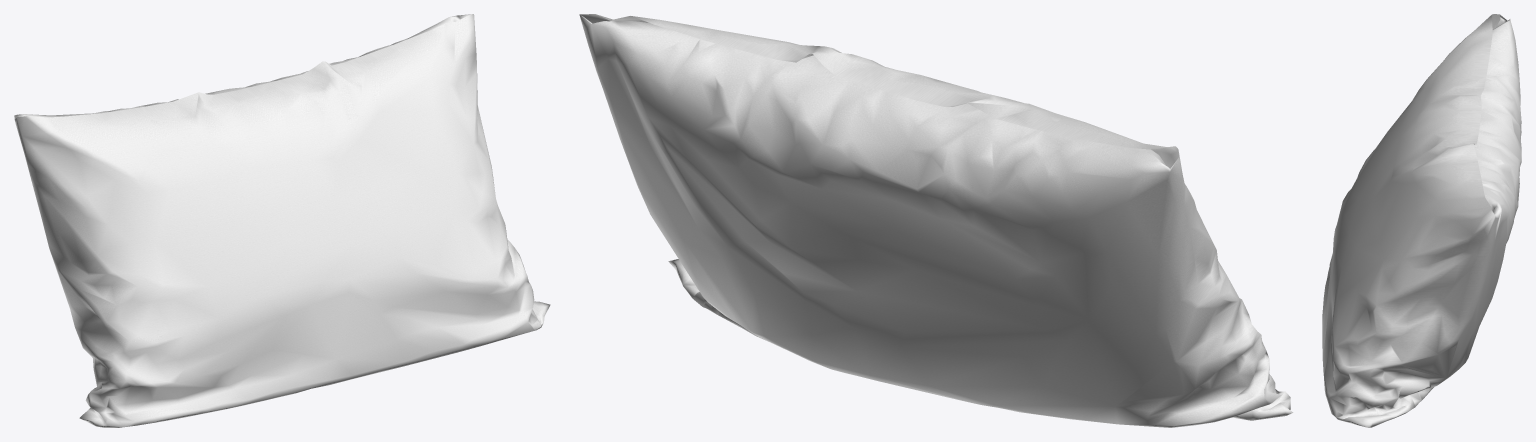
File: Pillow 1.FBX
3 views of the same model, side by side, from view 1: azimuth 30°, elevation 25°; view 2: azimuth 150°, elevation 25°; view 3: azimuth 270°, elevation 25° (orthographic). The views are drawn at different scales.
Visible parts, largest first — view 1: pillow 1; view 2: pillow 1; view 3: pillow 1.
Boxes of the visible parts, x1,y1,x2,y2 form: pillow 1: (14,14,550,427); pillow 1: (579,14,1293,427); pillow 1: (1322,14,1521,427).
Bounding box in the file's own units: 67.96 × 34.78 × 28.29.
1 material, 1 textured.
